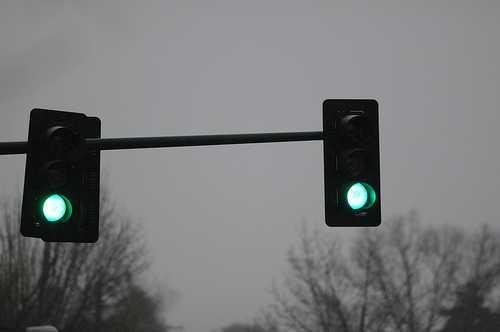green: (30, 109, 83, 237), (334, 101, 379, 223), (34, 189, 77, 229), (340, 181, 377, 216)
